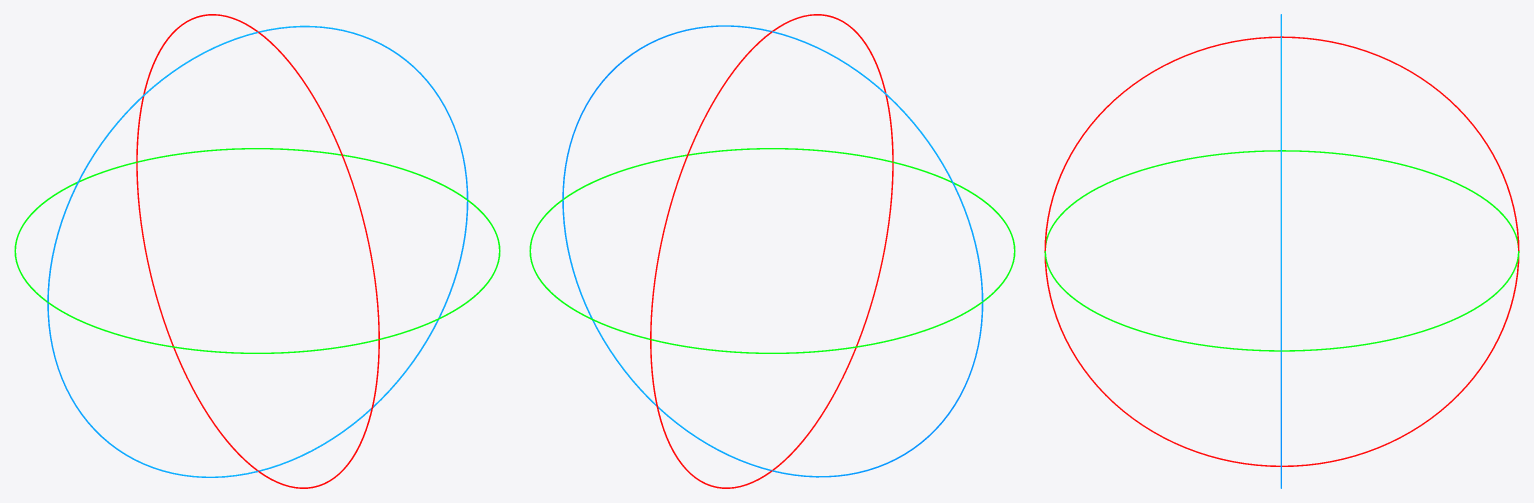
File: RotateCircle.fbx
3 renders of one model, left to right at view 1: azimuth 30°, elevation 25°; view 2: azimuth 150°, elevation 25°; view 3: azimuth 270°, elevation 25°, orthographic. The views are drawn at different scales.
Parts seen in each view (by area): view 1: RotateCircle; view 2: RotateCircle; view 3: RotateCircle.
Part boxes in pixels (x1,y1,x2,y2): RotateCircle: (14, 14, 500, 488); RotateCircle: (529, 14, 1015, 488); RotateCircle: (1044, 14, 1519, 488).
Bounding box in the file's own units: 200 × 200 × 200.
